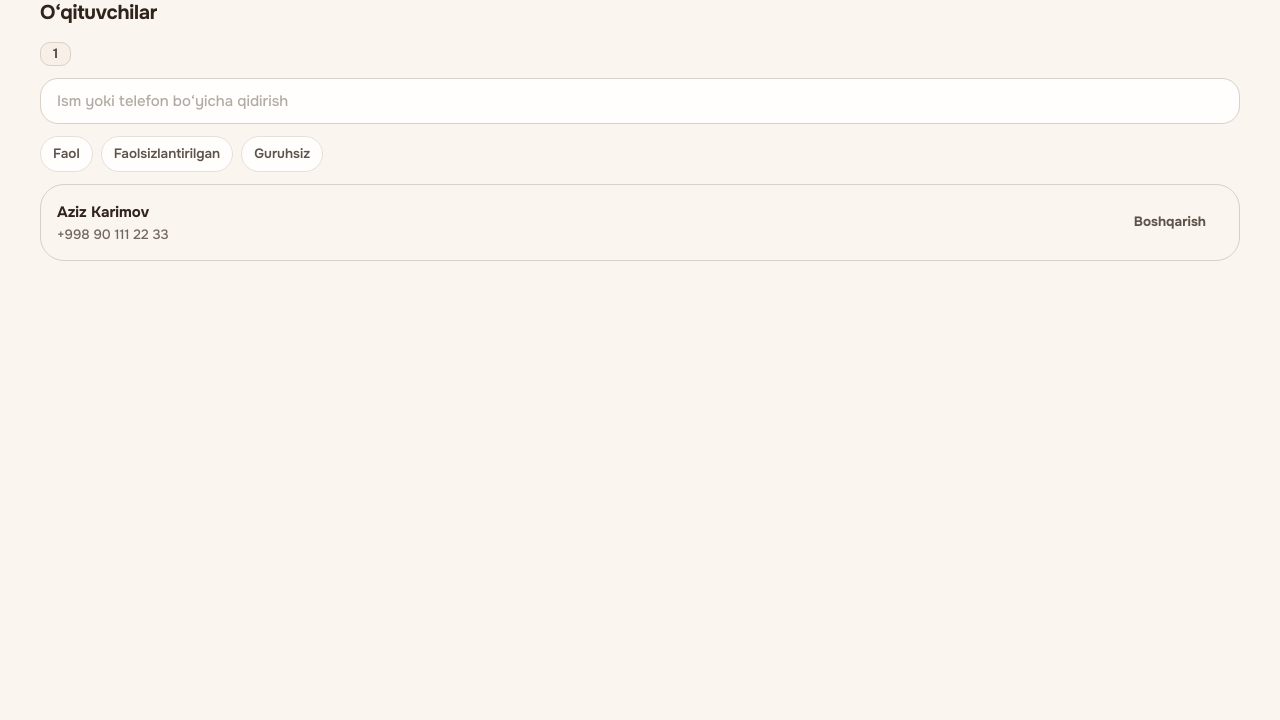
Guruhni o'tkazish › lists the teacher's groups, hands one over to the chosen teacher and says so
Click the button "Boshqarish" at {"x": 1170, "y": 222}, box [1117, 202, 1223, 242]
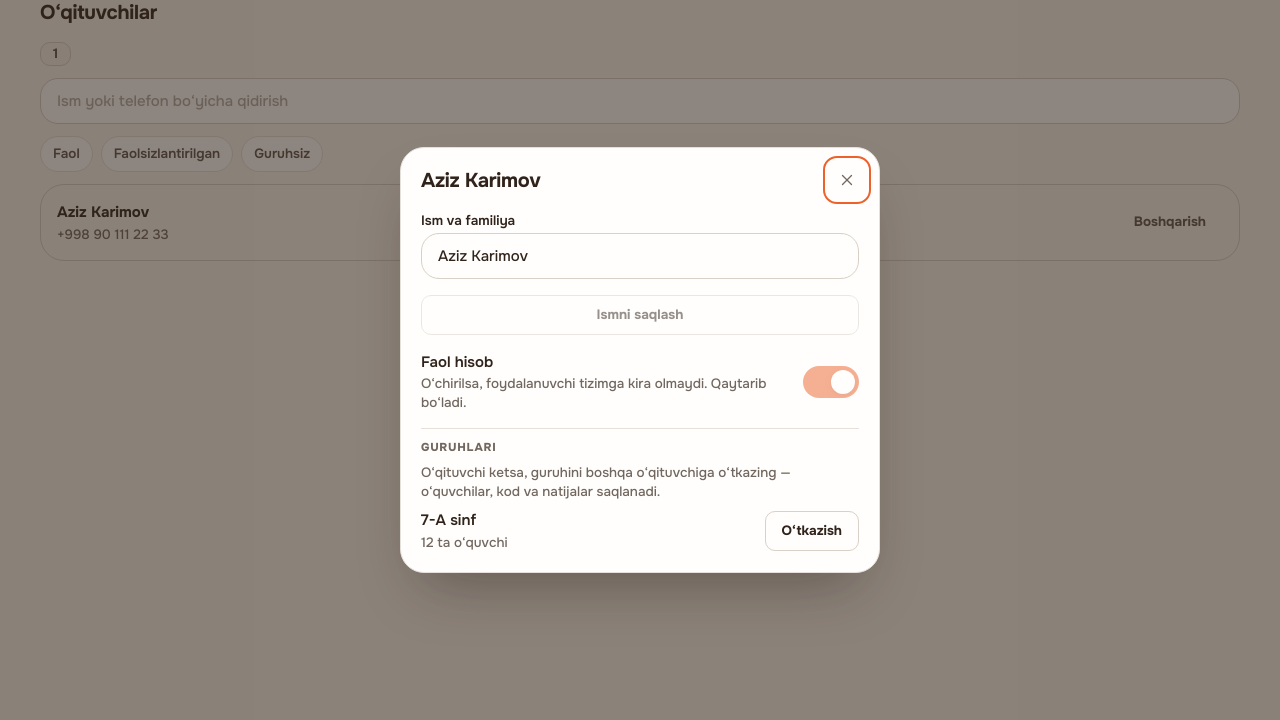
Check: the text "7-A sinf" is shown, box [421, 510, 476, 530]
Click the button "O‘tkazish" at {"x": 812, "y": 530}, box [764, 510, 859, 550]
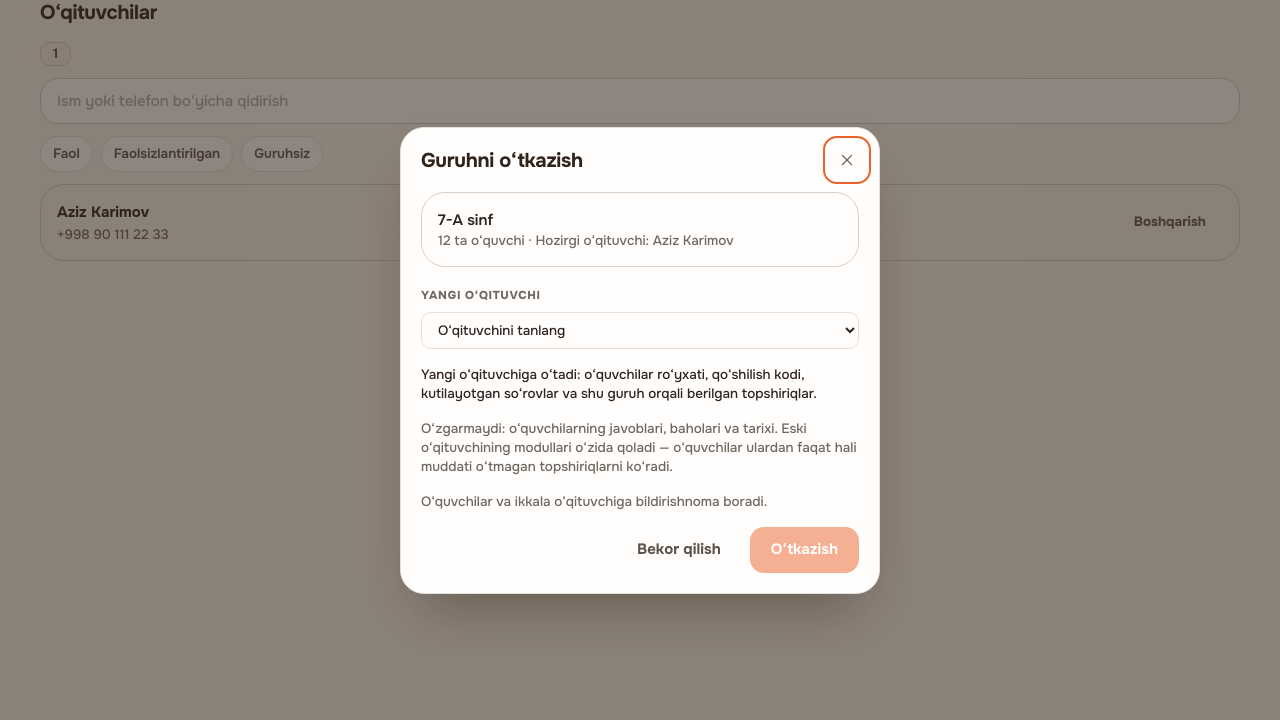
Check: the text "Yangi o‘qituvchiga o‘tadi: o‘quvchilar ro‘yxati, qo‘shilish kodi, kutilayotgan so‘rovlar va shu guruh orqali berilgan to" is shown, box [421, 366, 817, 402]
Check: the text "O‘zgarmaydi: o‘quvchilarning javoblari, baholari va tarixi. Eski o‘qituvchining modullari o‘zida qoladi — o‘quvchilar ul" is shown, box [421, 420, 857, 474]
Check: the button "O‘tkazish" is disabled, box [750, 526, 859, 572]
Select "Nodira Tosheva" in the dropdown labelled "Yangi o‘qituvchi" at {"x": 640, "y": 330}, box [421, 312, 859, 348]
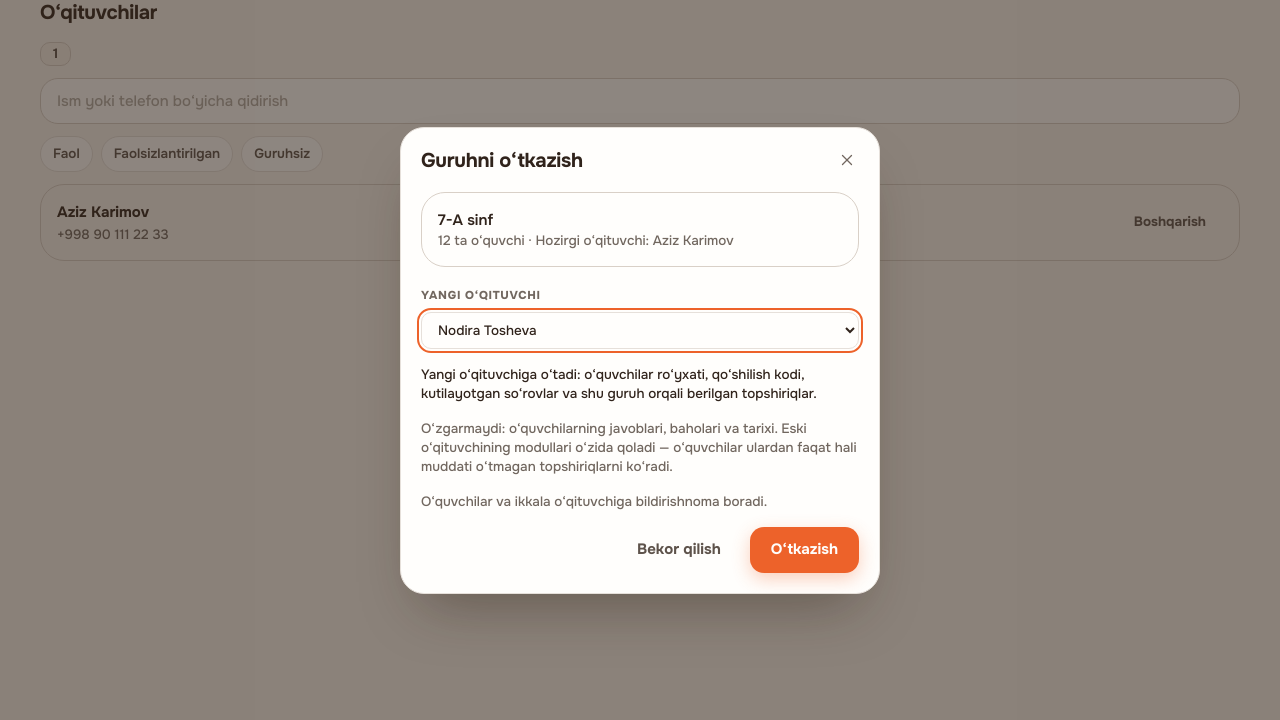
Click the button "O‘tkazish" at {"x": 804, "y": 550}, box [750, 526, 859, 572]
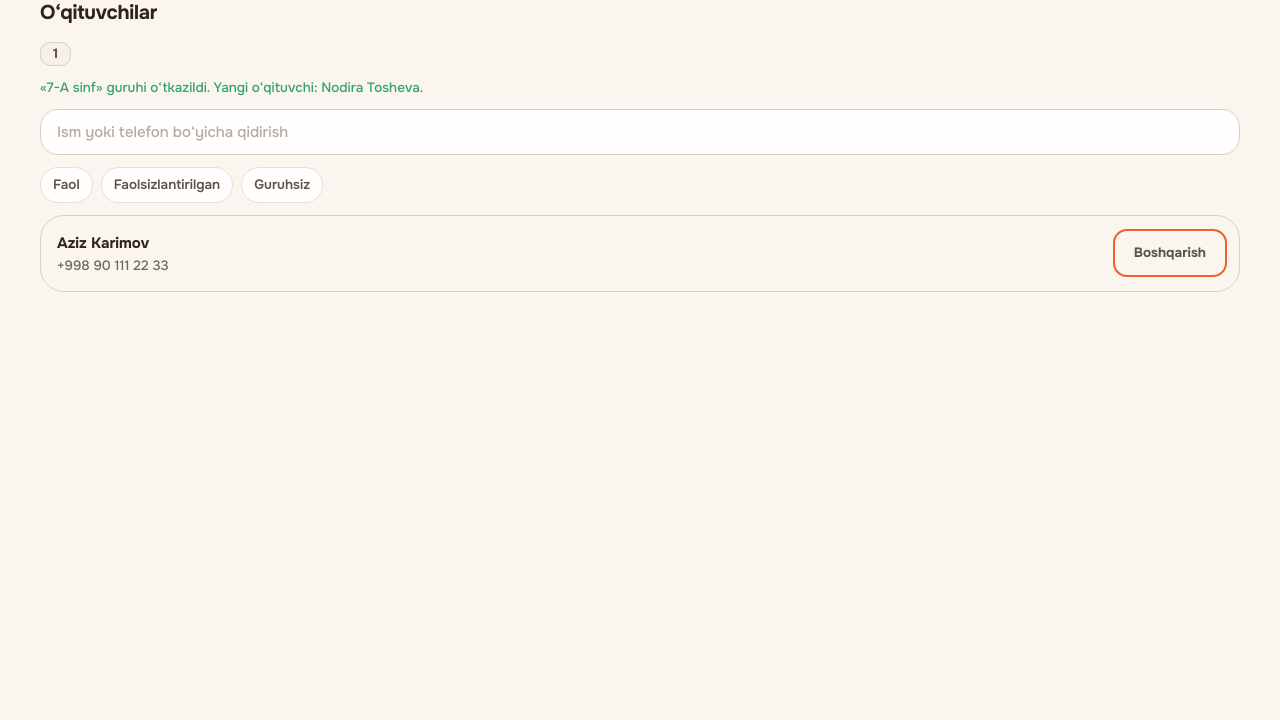
Check: the dialog is gone
